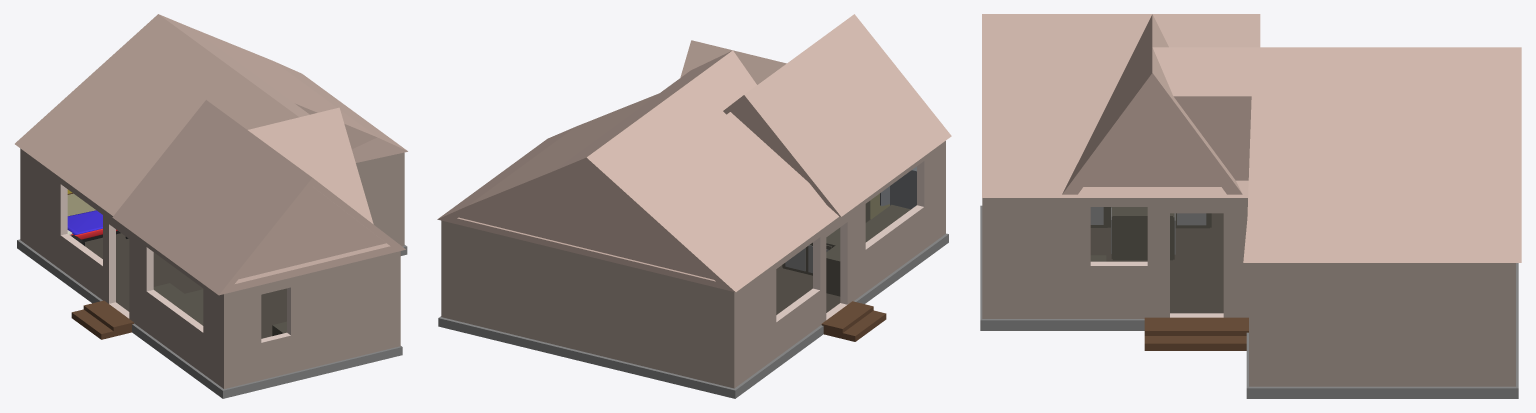
File: HouseExport.fbx
3 views of the same model, side by side, from view 1: azimuth 30°, elevation 25°; view 2: azimuth 150°, elevation 25°; view 3: azimuth 270°, elevation 25° (orthographic). The views are drawn at different scales.
Parts seen in each view (by area): view 1: Cube.007, Cube.008, Cube.001, Cube, Floor, Cube.009, Cube.004, Stairs.001, Cube.088, Cube.005, Cube.003, Blanket (+1 smaller); view 2: Cube.007, Cube.002, Cube.008, Cube, Floor, Cube.088, Cube.009, Stairs.001, Frame, Cube.001, Cube.012; view 3: Cube.007, Cube.003, Cube.008, Cube.005, Floor, Cube.009, Cube.014, Stairs, Cube.088, Cube.002, Cube.013.
Part boxes in pixels (box(x1,y1,x2,y2)): Cube.007: box(15, 14, 407, 215); Cube.008: box(112, 100, 405, 295); Cube.001: box(220, 253, 393, 388); Cube: box(20, 148, 219, 385); Floor: box(17, 233, 407, 398); Cube.009: box(248, 107, 373, 224); Cube.004: box(356, 154, 397, 242); Stairs.001: box(71, 300, 133, 339); Cube.088: box(153, 283, 203, 325); Cube.005: box(393, 251, 400, 347); Cube.003: box(397, 152, 404, 246); Blanket: box(67, 210, 102, 234); Cube.007: box(437, 50, 838, 292); Cube.002: box(441, 220, 726, 386); Cube.008: box(723, 14, 951, 216); Cube: box(727, 144, 941, 388); Floor: box(438, 219, 948, 398); Cube.088: box(782, 204, 910, 296); Cube.009: box(680, 40, 786, 84); Stairs.001: box(821, 301, 886, 341); Frame: box(890, 166, 916, 209); Cube.001: box(870, 141, 945, 236); Cube.012: box(783, 242, 831, 275); Cube.007: box(1152, 47, 1521, 262); Cube.003: box(1249, 263, 1505, 386); Cube.008: box(982, 14, 1260, 197); Cube.005: box(982, 198, 1248, 318); Floor: box(980, 205, 1518, 398); Cube.009: box(1062, 14, 1242, 194); Cube.014: box(1083, 92, 1220, 186); Stairs: box(1144, 317, 1248, 350); Cube.088: box(1107, 207, 1211, 260); Cube.002: box(1505, 263, 1515, 386); Cube.013: box(1175, 213, 1209, 228).
Bounding box in the file's own units: 1015 × 897 × 538.
